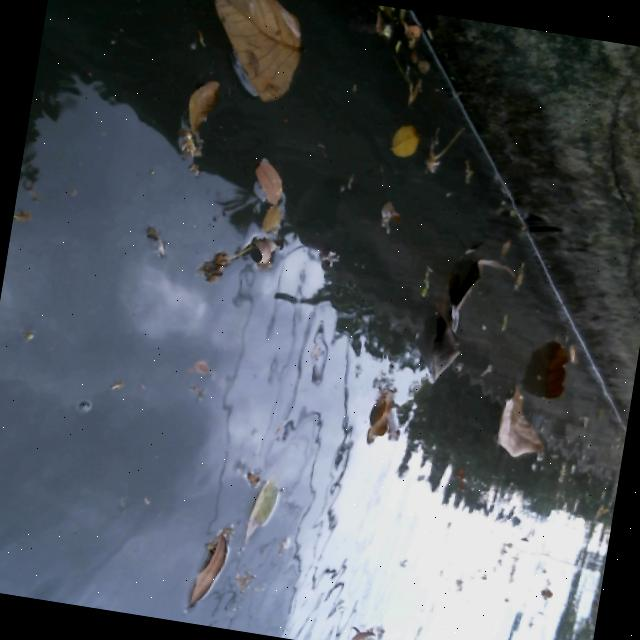Big-leaf: (405, 240, 525, 398), (197, 0, 313, 114), (485, 377, 553, 462), (351, 383, 407, 460), (533, 336, 569, 408)
Small-leaf: (175, 504, 240, 613), (225, 457, 297, 550), (164, 72, 221, 170), (247, 149, 297, 203), (383, 119, 434, 169), (363, 171, 403, 232), (241, 179, 289, 229), (445, 147, 478, 202), (184, 350, 213, 372), (560, 345, 582, 367)
